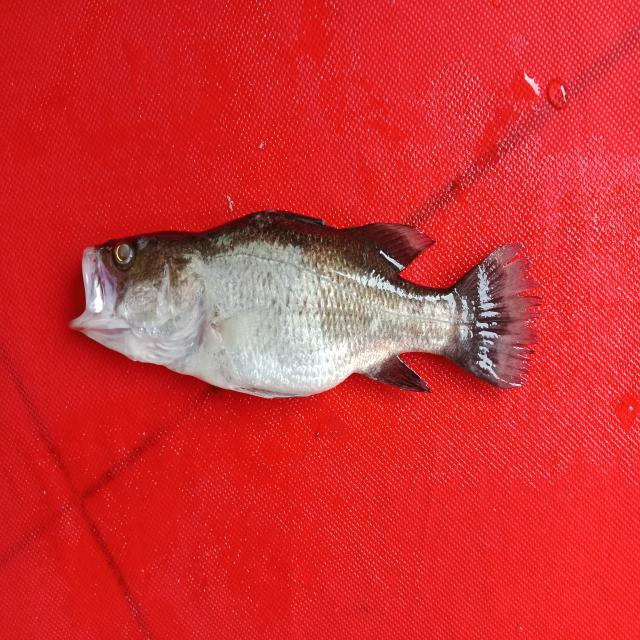ikan: (63, 194, 549, 422)
